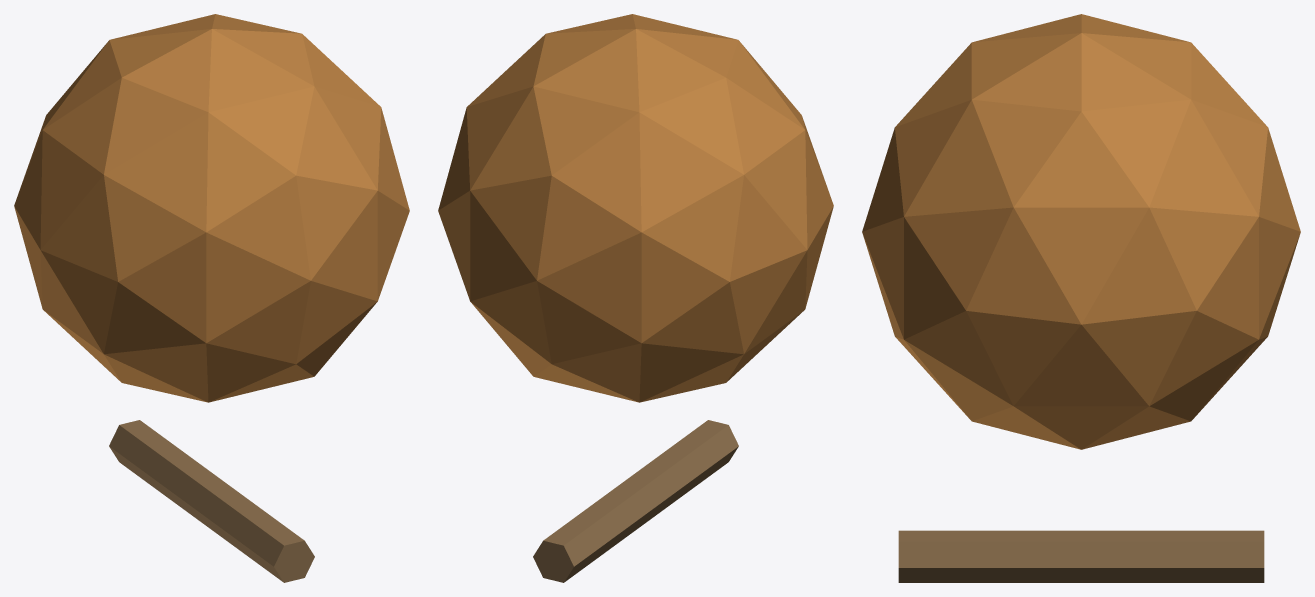
File: tree_maple.glb
3 renders of one model, left to right at view 1: azimuth 30°, elevation 25°; view 2: azimuth 150°, elevation 25°; view 3: azimuth 270°, elevation 25°, orthographic. The views are drawn at different scales.
Parts seen in each view (by area): view 1: world; view 2: world; view 3: world.
Boxes of the visible parts, x1=… form: world: x1=14, y1=14, x2=409, y2=582; world: x1=438, y1=14, x2=833, y2=582; world: x1=862, y1=14, x2=1300, y2=582.
Bounding box in the file's own units: 3 × 4.11 × 3.
